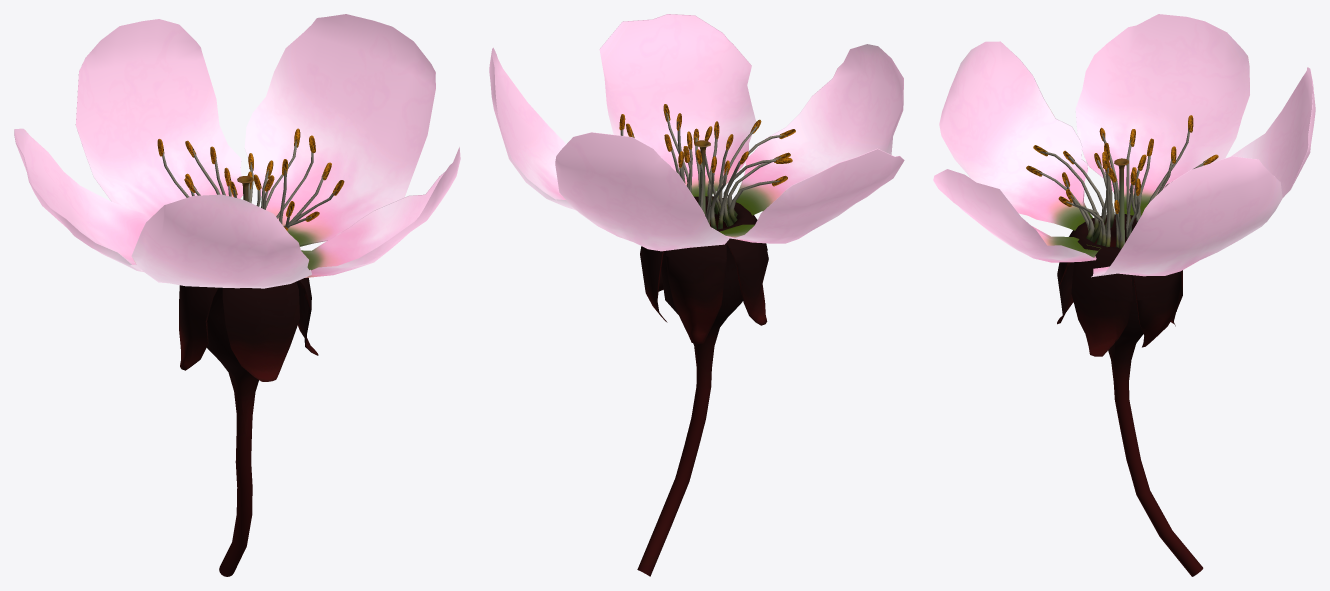
The model's file is flower.gltf.
3 views of the same model, side by side, from view 1: azimuth 30°, elevation 25°; view 2: azimuth 150°, elevation 25°; view 3: azimuth 270°, elevation 25° (orthographic). The views are drawn at different scales.
Parts seen in each view (by area): view 1: Petal_02, Petal_01, Sepal_01, Sepal_02, Filament_02, Filament_01; view 2: Petal_01, Petal_02, Sepal_02, Filament_01, Filament_02, Sepal_01; view 3: Petal_02, Petal_01, Sepal_02, Sepal_01, Filament_02, Filament_01, Style.
Boxes of the visible parts, box(x1,y1,x2,y2) form: Petal_02: box(14, 14, 435, 271); Petal_01: box(129, 147, 460, 288); Sepal_01: box(185, 277, 318, 436); Sepal_02: box(179, 281, 301, 576); Filament_02: box(157, 128, 331, 228); Filament_01: box(229, 159, 344, 230); Petal_01: box(599, 14, 903, 215); Petal_02: box(489, 47, 904, 251); Sepal_02: box(637, 220, 766, 576); Filament_01: box(663, 104, 795, 224); Filament_02: box(619, 114, 792, 229); Sepal_01: box(658, 196, 768, 320); Petal_02: box(1075, 14, 1315, 277); Petal_01: box(933, 41, 1100, 262); Sepal_02: box(1115, 214, 1203, 576); Sepal_01: box(1057, 214, 1114, 399); Filament_02: box(1099, 115, 1218, 248); Filament_01: box(1026, 142, 1114, 247); Style: box(1114, 158, 1129, 244).
Bounding box in the file's own units: 34.24 × 41.01 × 29.25.
5 materials, 5 textured.
